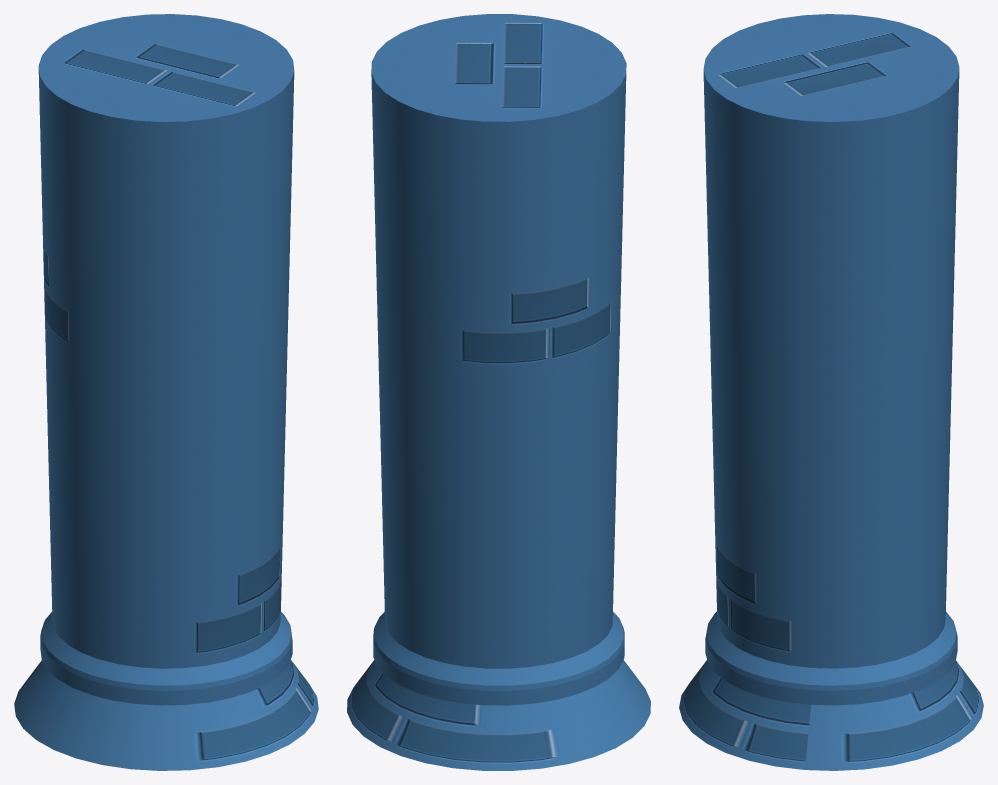
The model's file is Kollona_selaya.fbx.
The picture shows the model from 3 angles, left to right: view 1: azimuth 30°, elevation 25°; view 2: azimuth 150°, elevation 25°; view 3: azimuth 270°, elevation 25°; orthographic projection.
Visible parts, largest first — view 1: Kollona.02; view 2: Kollona.02; view 3: Kollona.02.
Part boxes in pixels (x1=…): Kollona.02: x1=14, y1=14, x2=318, y2=770; Kollona.02: x1=347, y1=14, x2=650, y2=770; Kollona.02: x1=679, y1=14, x2=983, y2=770.
Bounding box in the file's own units: 479 × 1108 × 479.
